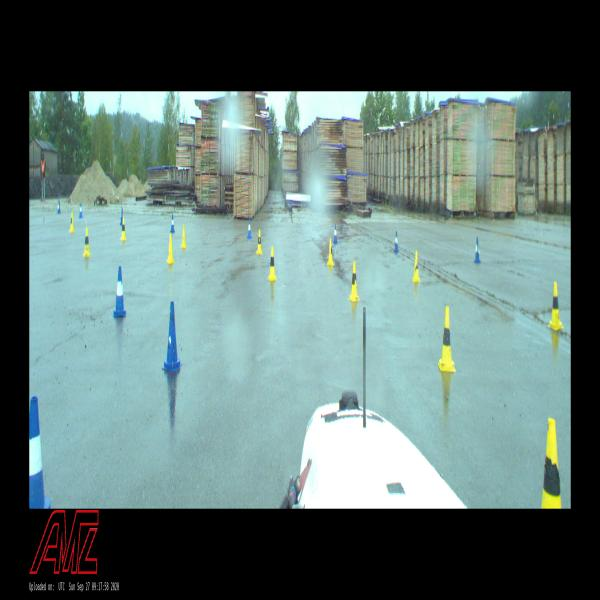blue_cone: (30, 396, 50, 508), (162, 301, 182, 371), (114, 266, 126, 318), (474, 237, 481, 263), (333, 224, 338, 244), (246, 219, 251, 238), (170, 214, 175, 233), (394, 231, 398, 252), (79, 203, 83, 218), (120, 207, 123, 225), (57, 200, 61, 213)
yellow_cone: (542, 418, 561, 508), (438, 306, 456, 372), (547, 282, 564, 330), (348, 261, 360, 301), (268, 246, 278, 280), (166, 233, 175, 263), (412, 250, 420, 282), (83, 227, 91, 257), (327, 238, 334, 265), (256, 229, 263, 254), (180, 224, 187, 248), (120, 217, 126, 240), (70, 211, 76, 232)
